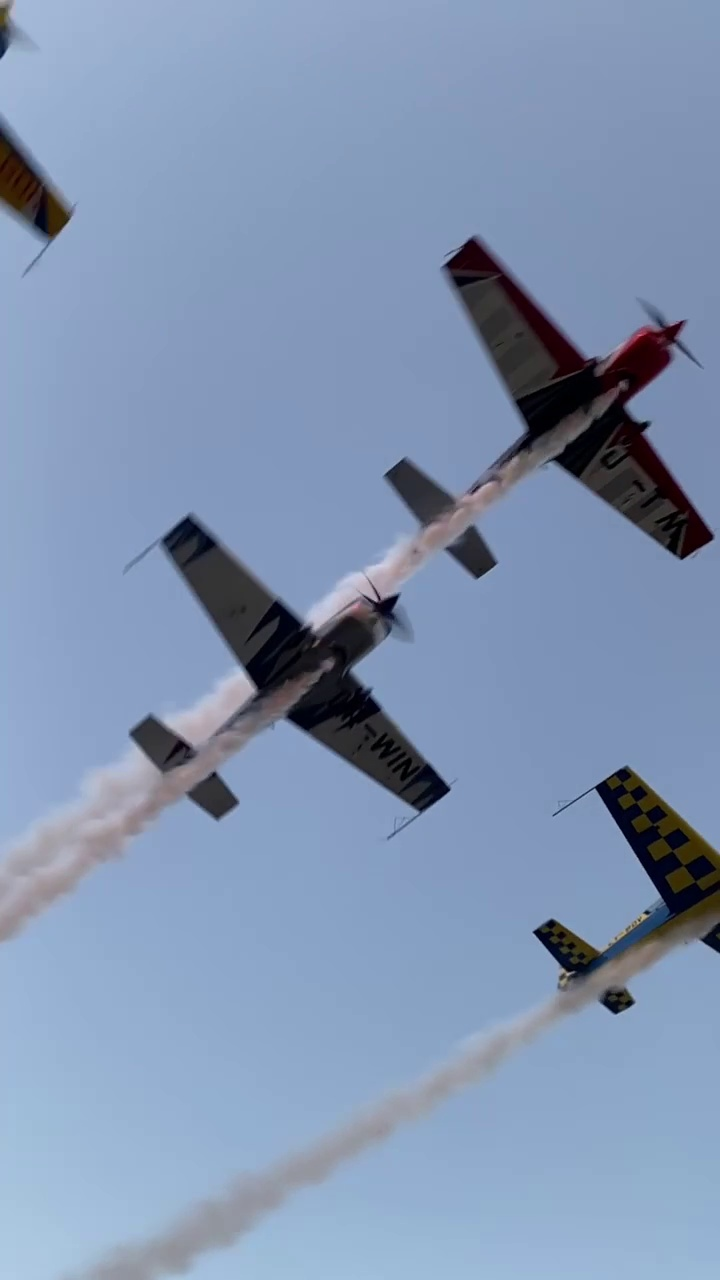plane: (384, 235, 720, 582), (125, 515, 452, 826), (530, 762, 720, 1015)
